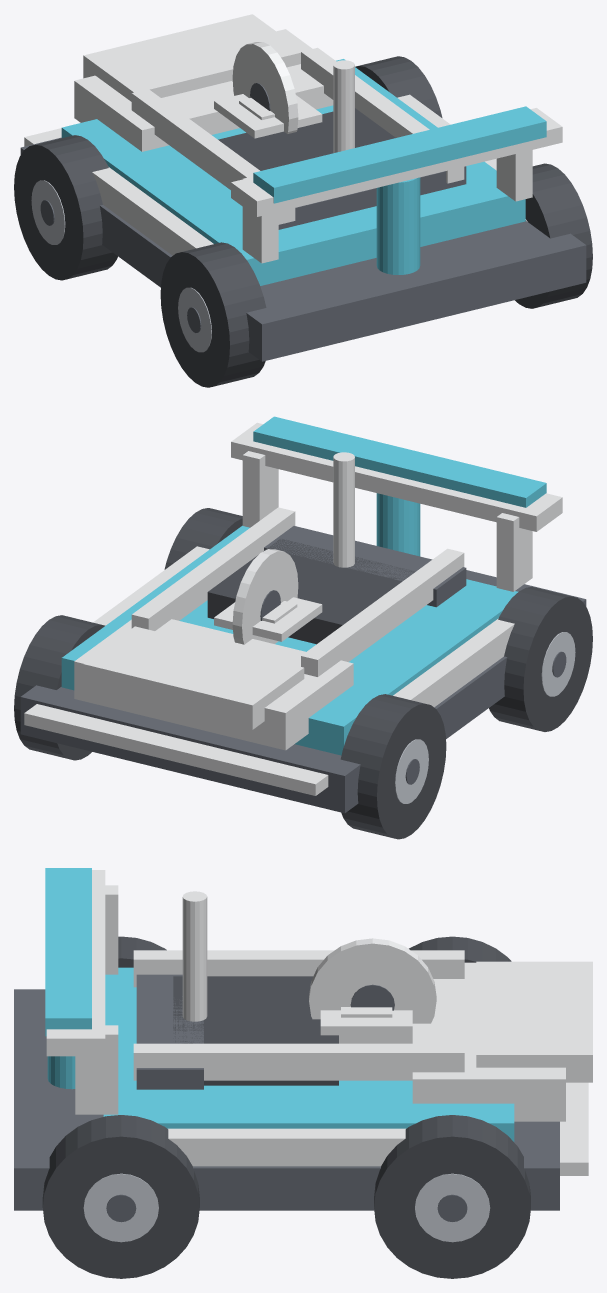
Rendered from accelerator.glb.
3 renders of one model, top to bottom at view 1: azimuth 30°, elevation 25°; view 2: azimuth 150°, elevation 25°; view 3: azimuth 270°, elevation 25°, orthographic. The views are drawn at different scales.
Parts seen in each view (by area): view 1: part_0, part_1, part_31, part_19, part_3, part_16, part_2, part_25, part_33, part_11, part_4, part_32 (+12 smaller); view 2: part_1, part_3, part_0, part_16, part_2, part_19, part_31, part_28, part_4, part_11, part_33, part_34 (+13 smaller); view 3: part_0, part_1, part_25, part_22, part_3, part_34, part_2, part_4, part_10, part_8, part_31, part_33 (+16 smaller).
Part boxes in pixels (x1,y1,x2,y2): part_0: (20, 137, 586, 361); part_1: (61, 59, 525, 285); part_31: (253, 106, 546, 203); part_19: (160, 242, 266, 387); part_3: (83, 14, 302, 101); part_16: (14, 135, 117, 280); part_2: (74, 29, 333, 151); part_25: (515, 163, 592, 308); part_33: (131, 89, 295, 224); part_11: (231, 108, 562, 216); part_4: (218, 108, 395, 170); part_32: (376, 177, 420, 274); part_1: (61, 525, 518, 755); part_3: (83, 626, 304, 729); part_0: (20, 570, 586, 813); part_16: (340, 694, 446, 839); part_2: (74, 619, 353, 750); part_19: (489, 587, 592, 731); part_31: (253, 416, 546, 507); part_28: (24, 704, 328, 795); part_4: (207, 539, 415, 644); part_11: (231, 422, 562, 531); part_33: (301, 548, 464, 676); part_34: (131, 507, 295, 630); part_0: (14, 989, 559, 1210); part_1: (103, 967, 514, 1141); part_25: (42, 1115, 199, 1278); part_22: (374, 1115, 530, 1278); part_3: (476, 961, 592, 1082); part_34: (133, 1043, 464, 1080); part_2: (412, 962, 565, 1121); part_4: (173, 976, 338, 1085); part_10: (168, 1128, 405, 1166); part_8: (309, 938, 436, 1043); part_31: (45, 868, 91, 1036); part_33: (133, 950, 464, 987).
Size of the model in its own units: 3.89 by 2.54 by 4.72.
